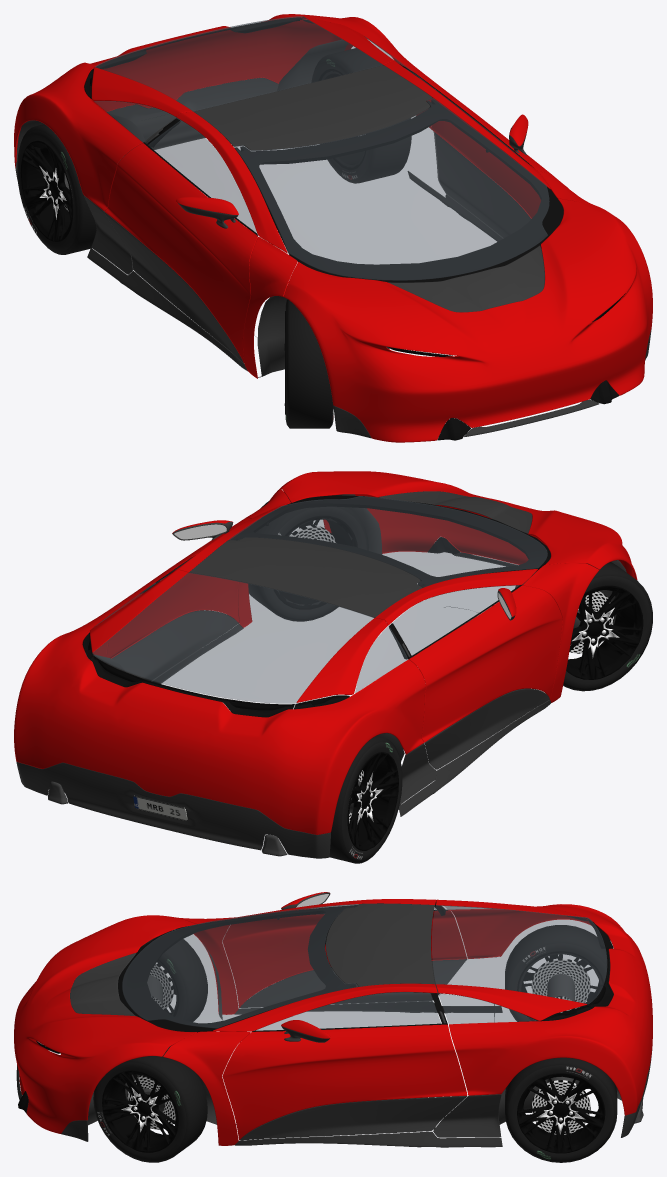
File: car-concept.glb
3 renders of one model, top to bottom at view 1: azimuth 30°, elevation 25°; view 2: azimuth 150°, elevation 25°; view 3: azimuth 270°, elevation 25°, orthographic. The views are drawn at different scales.
Visible parts, largest first — view 1: BodyRearPanelsColor1, BodyWindshield, BodyRoofPanel, BodyWindshieldGasket, object 12, WheelFrontLRim, BodyUnderside; view 2: BodyRearPanelsColor1, BodyWindshield, BodyRoofPanel, WheelFrontLRim, BodyWindshieldGasket, object 12, BodyUnderside, WheelFrontLBrakeDisc, License Plate, BodyDoorRMirror, BodyTurnsignalsRear; view 3: BodyRearPanelsColor1, BodyWindshield, BodyRoofPanel, object 12, WheelFrontLRim, BodyWindshieldGasket, WheelFrontLBrakeDisc, BodyUnderside.
Boxes of the visible parts, x1=… form: BodyRearPanelsColor1: x1=14, y1=14, x2=652, y2=442; BodyWindshield: x1=94, y1=16, x2=549, y2=280; BodyRoofPanel: x1=15, y1=65, x2=651, y2=438; BodyWindshieldGasket: x1=84, y1=17, x2=618, y2=440; object 12: x1=17, y1=48, x2=600, y2=428; WheelFrontLRim: x1=20, y1=69, x2=366, y2=414; BodyUnderside: x1=16, y1=39, x2=544, y2=377; BodyRearPanelsColor1: x1=14, y1=471, x2=637, y2=834; BodyWindshield: x1=92, y1=496, x2=547, y2=703; BodyRoofPanel: x1=16, y1=491, x2=550, y2=858; WheelFrontLRim: x1=273, y1=515, x2=643, y2=850; BodyWindshieldGasket: x1=82, y1=495, x2=550, y2=717; object 12: x1=49, y1=492, x2=652, y2=863; BodyUnderside: x1=48, y1=494, x2=626, y2=856; WheelFrontLBrakeDisc: x1=289, y1=525, x2=613, y2=823; License Plate: x1=133, y1=795, x2=187, y2=820; BodyDoorRMirror: x1=174, y1=524, x2=511, y2=618; BodyTurnsignalsRear: x1=88, y1=641, x2=332, y2=710; BodyRearPanelsColor1: x1=14, y1=892, x2=652, y2=1145; BodyWindshield: x1=122, y1=904, x2=607, y2=1030; BodyRoofPanel: x1=16, y1=892, x2=652, y2=1147; object 12: x1=93, y1=925, x2=617, y2=1162; WheelFrontLRim: x1=102, y1=950, x2=605, y2=1153; BodyWindshieldGasket: x1=18, y1=901, x2=613, y2=1113; WheelFrontLBrakeDisc: x1=127, y1=958, x2=590, y2=1134; BodyUnderside: x1=87, y1=943, x2=643, y2=1129.
Bounding box in the file's own units: 2.54 × 1.15 × 4.36.
14 materials, 3 textured.
